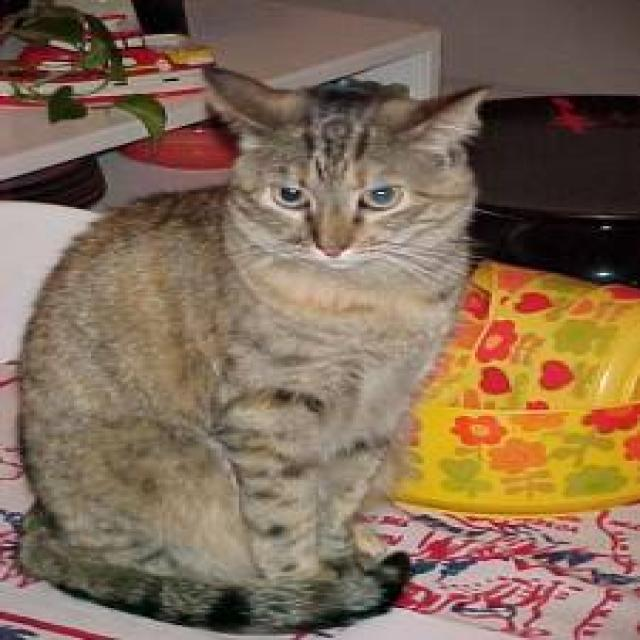Egyptian_Mau: (189, 57, 503, 276)
